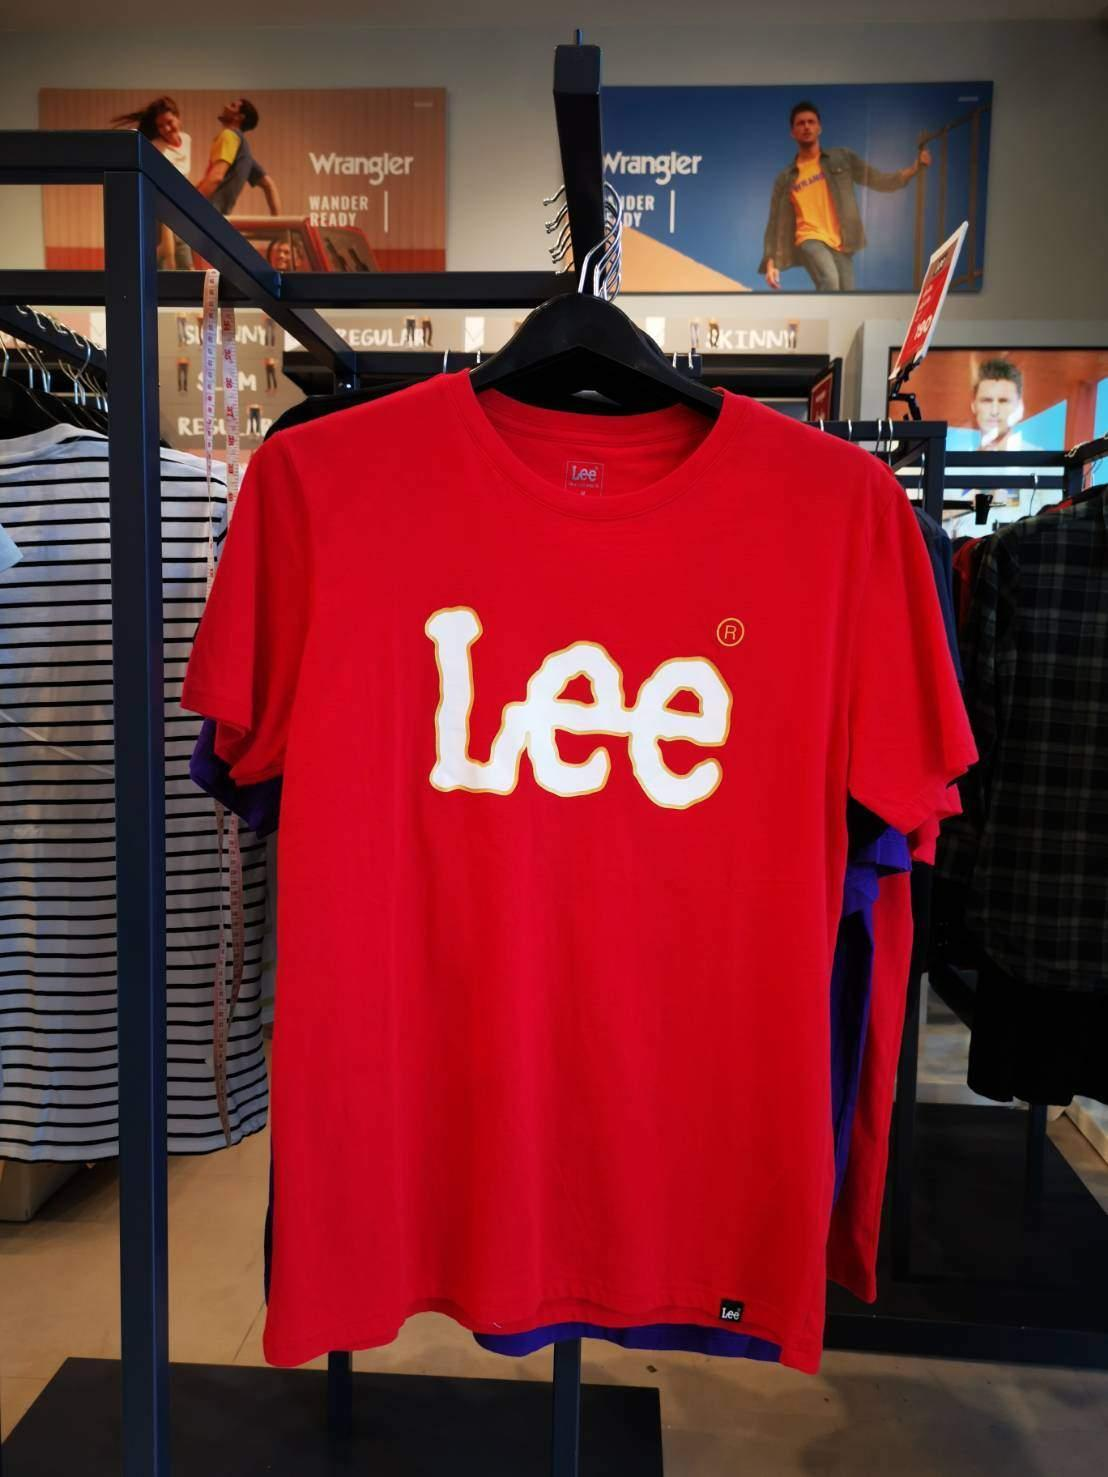Tshirt: (187, 354, 972, 1349)
